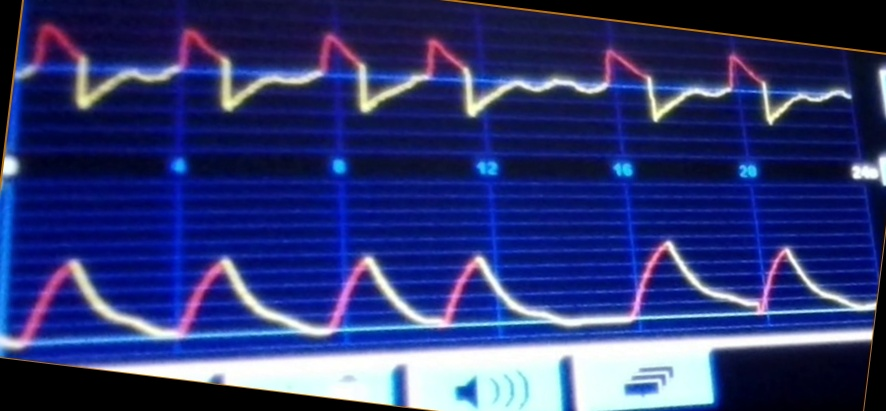Ineffective_effort Flow: (22, 20, 845, 131)
Ineffective_effort Volume: (10, 236, 867, 345)
